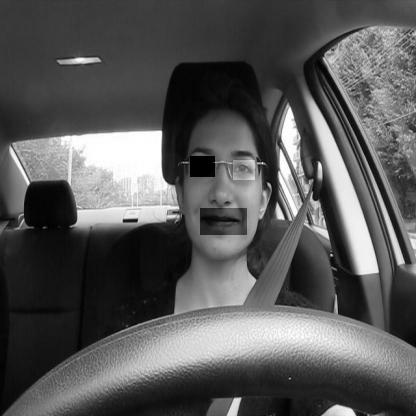seatbelt: (165, 85, 298, 416)
